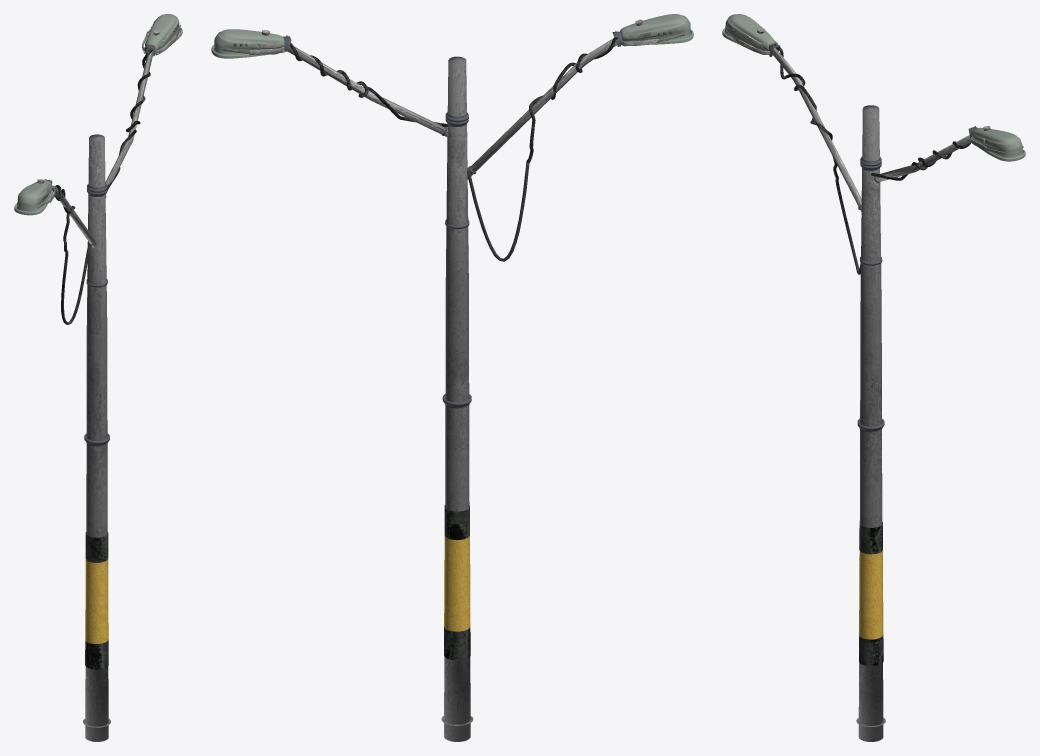
Rendered from street_lamp.glb.
3 views of the same model, side by side, from view 1: azimuth 30°, elevation 25°; view 2: azimuth 150°, elevation 25°; view 3: azimuth 270°, elevation 25° (orthographic). The views are drawn at different scales.
Visible parts, largest first — view 1: Object_0; view 2: Object_0; view 3: Object_0.
Part boxes in pixels (x1,y1,x2,y2): Object_0: [14, 14, 182, 741]; Object_0: [211, 14, 693, 741]; Object_0: [722, 14, 1025, 741].
Size of the model in its own units: 2.07 by 4.3 by 1.76.
Materials: 1 (1 with a texture image).
